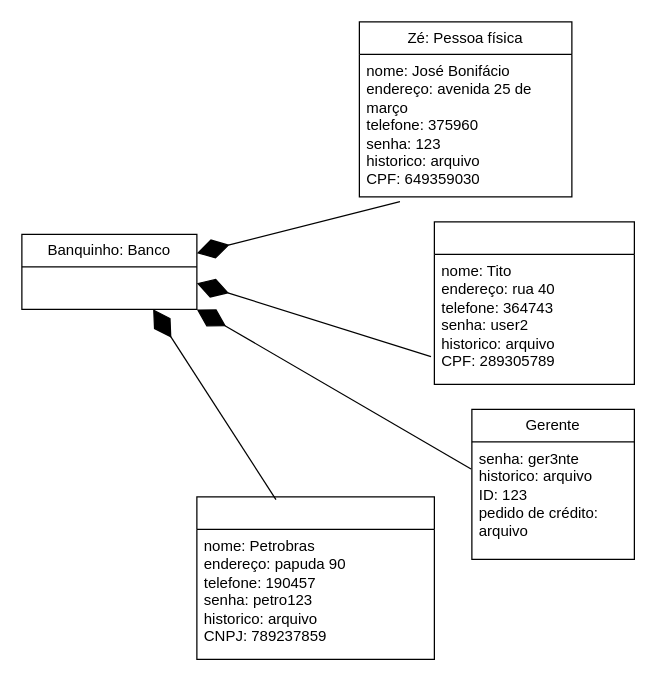
Image size: 656x685. Some labels were removed from this diagram. Each missing label, with the box of its shape:
Petrobras: Pessoa Jurídica: (196, 496, 434, 659)
Tito: Pessoa Física: (433, 221, 634, 384)
